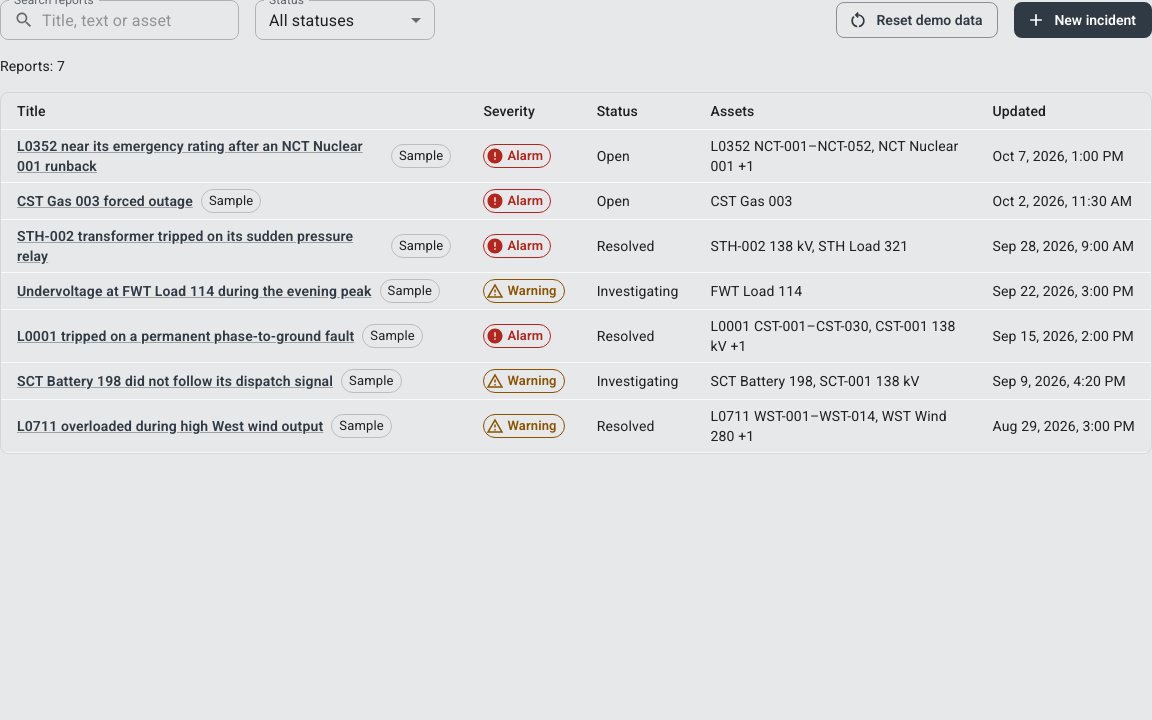
IncidentList › asks before resetting the demo data
Click the button "Reset demo data" at (918, 20), box [836, 2, 998, 38]
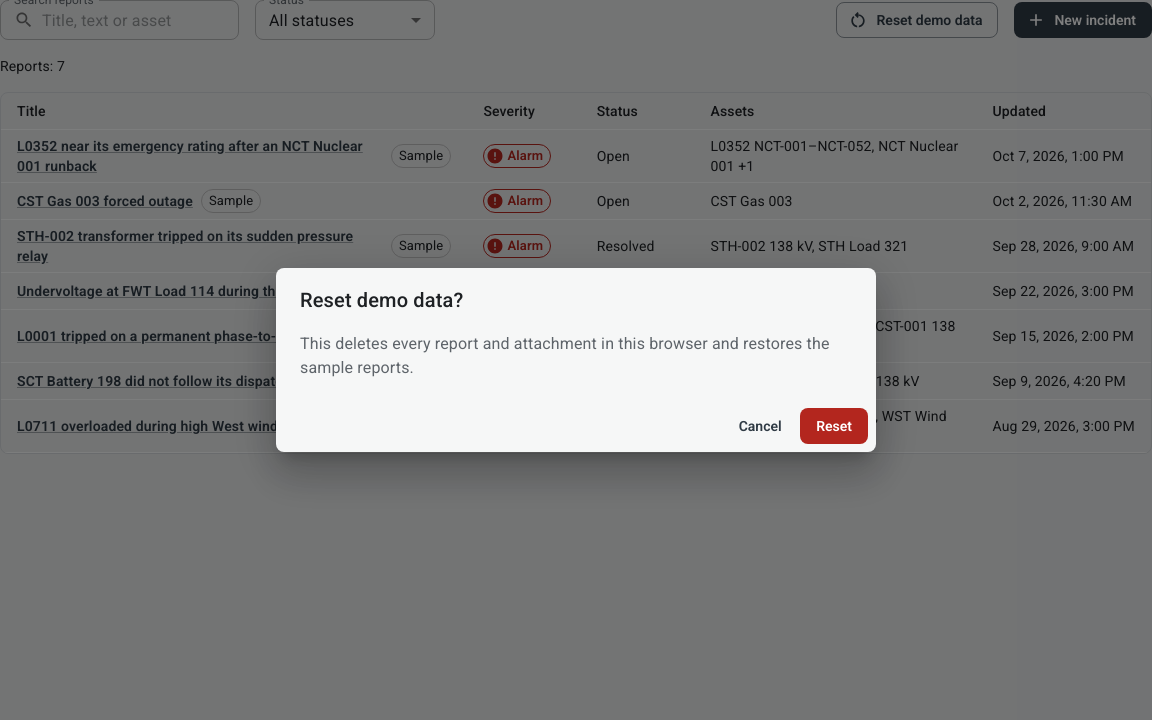
Click the button "Cancel" at (760, 426), box [728, 408, 792, 444]
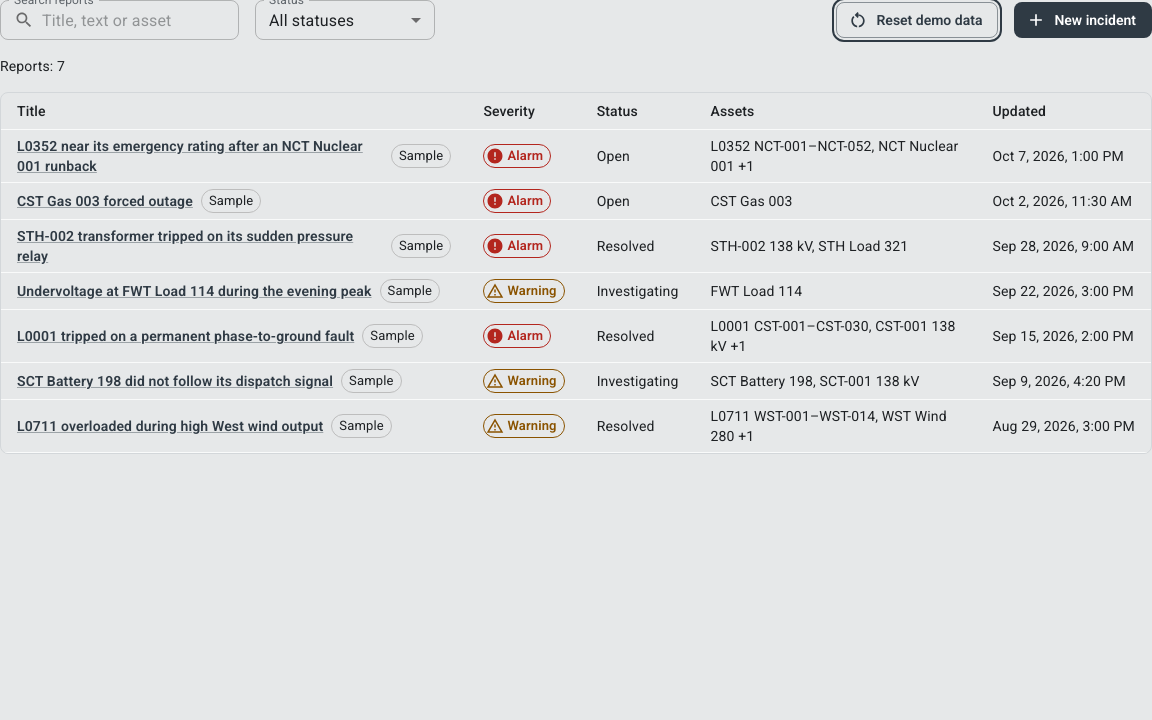
Check: the dialog is gone
